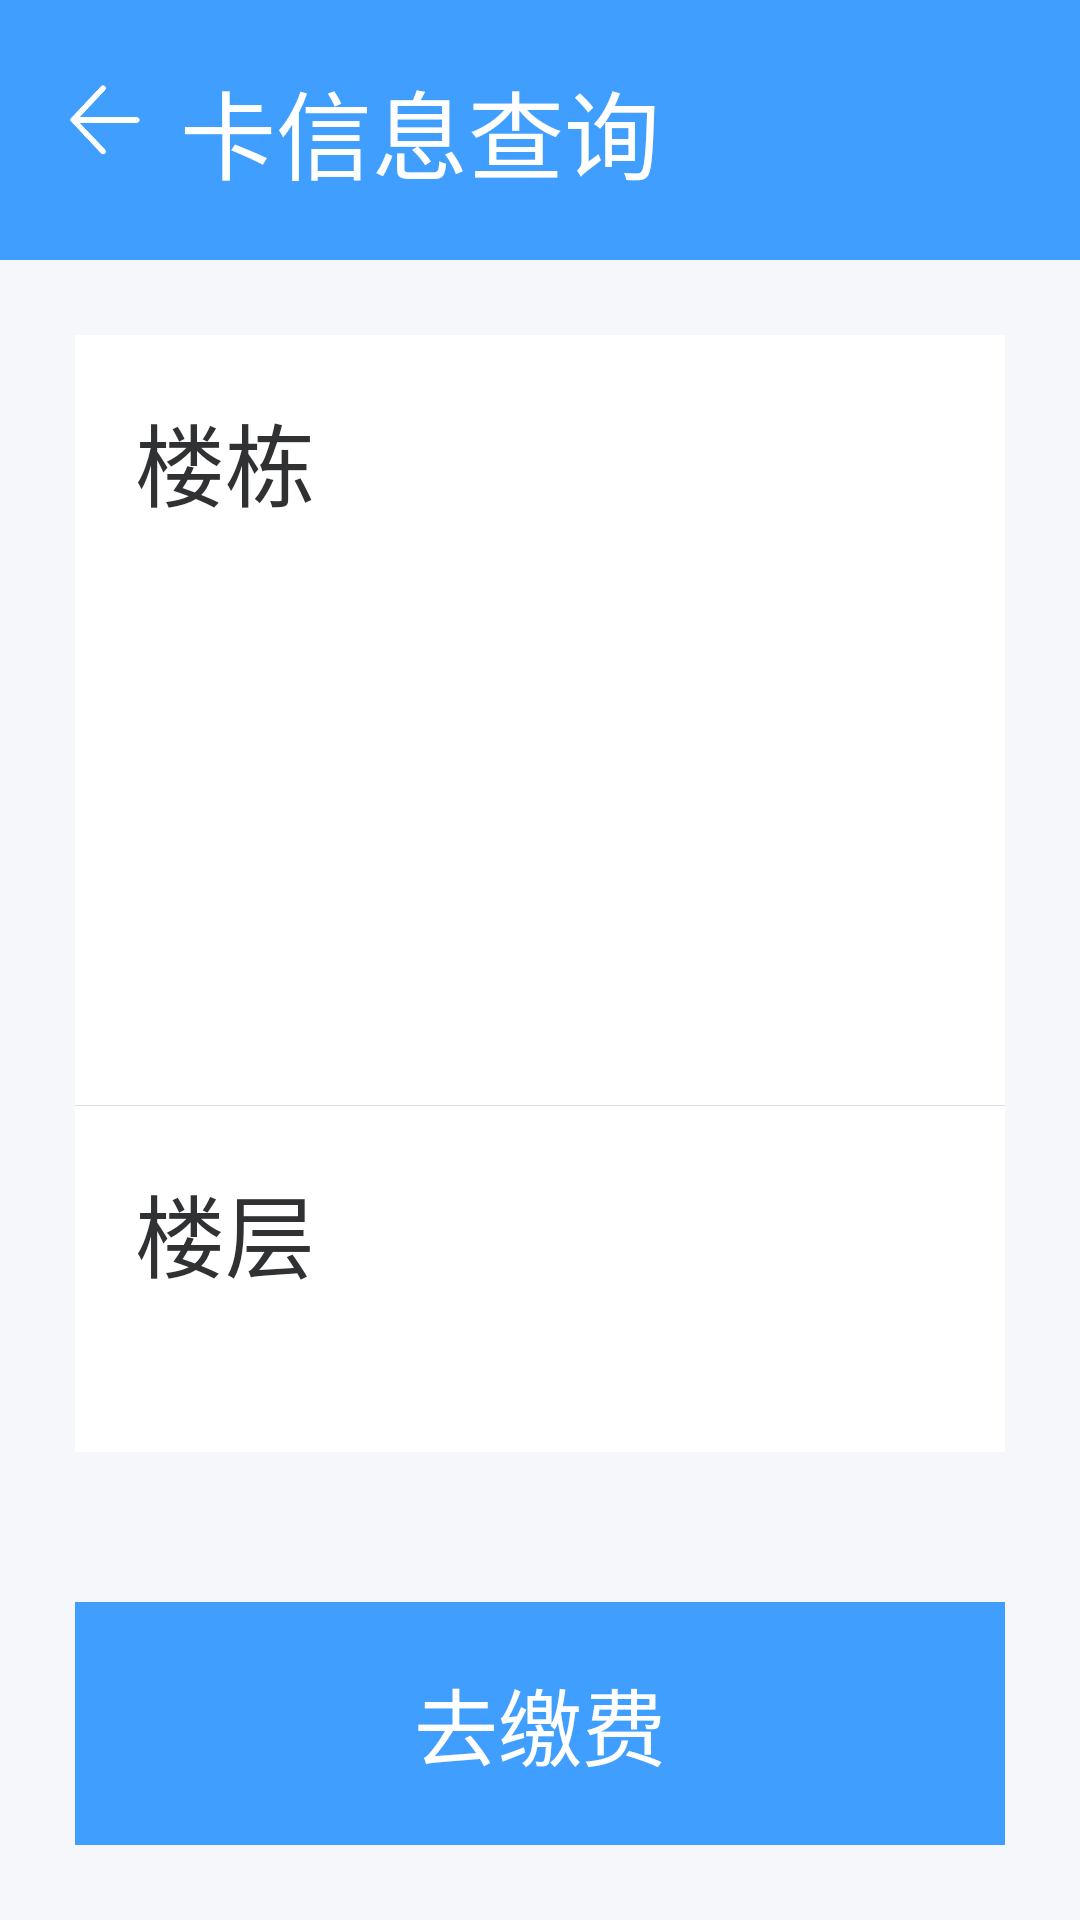

Point at icon controls on the screen. Image size 1080*1920, points as (x,y).
direction left: (105,119)
